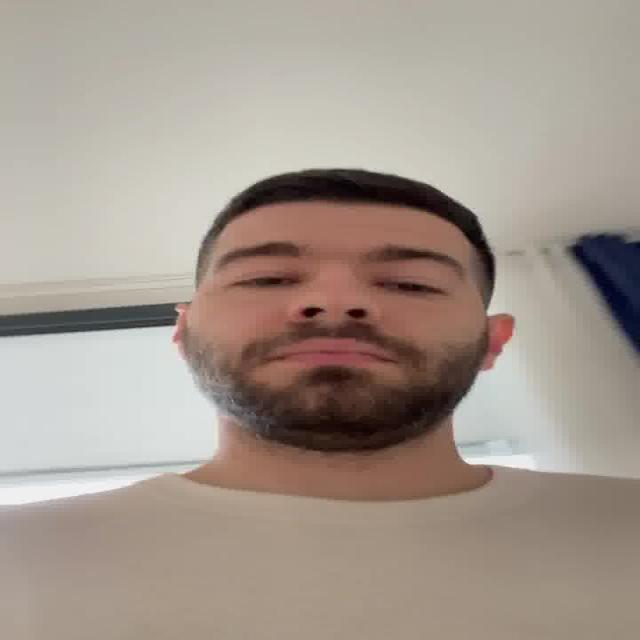earlobe: (478, 357, 498, 373), (173, 346, 191, 361)
eye: (378, 278, 451, 298), (228, 276, 306, 288)
nose: (289, 310, 382, 339)
wholeear: (477, 313, 518, 373), (170, 302, 190, 362)
